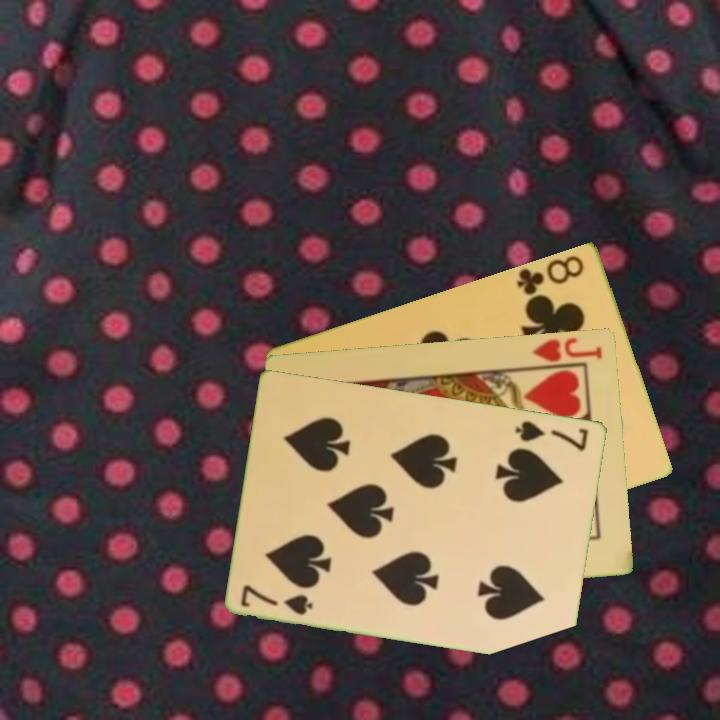7s: (512, 416, 592, 454), (237, 581, 317, 618)
8c: (513, 251, 587, 302)
Jh: (523, 333, 606, 370)
